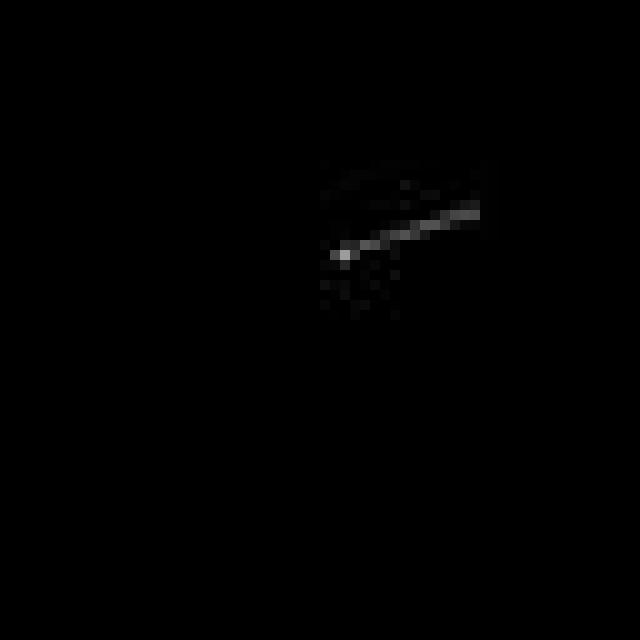1 -one-: (318, 196, 490, 269)
